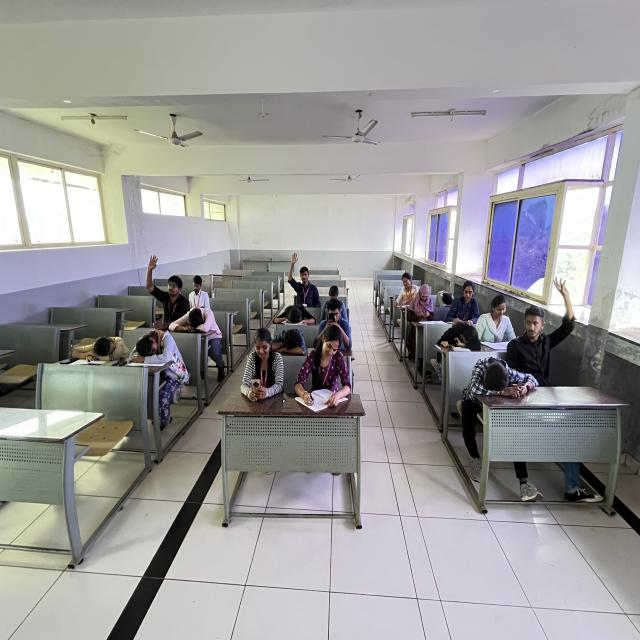Hand Rising: (512, 270, 577, 361), (132, 239, 187, 327), (281, 251, 323, 307)
Sleeping: (128, 320, 188, 376), (68, 323, 133, 370), (465, 344, 528, 391), (171, 298, 221, 352), (437, 318, 479, 358), (268, 295, 316, 329), (268, 321, 309, 358), (433, 280, 461, 309)
Using Phone: (241, 326, 285, 406), (316, 297, 356, 348), (409, 284, 435, 325)
Writing: (298, 326, 354, 410), (453, 274, 482, 326)
